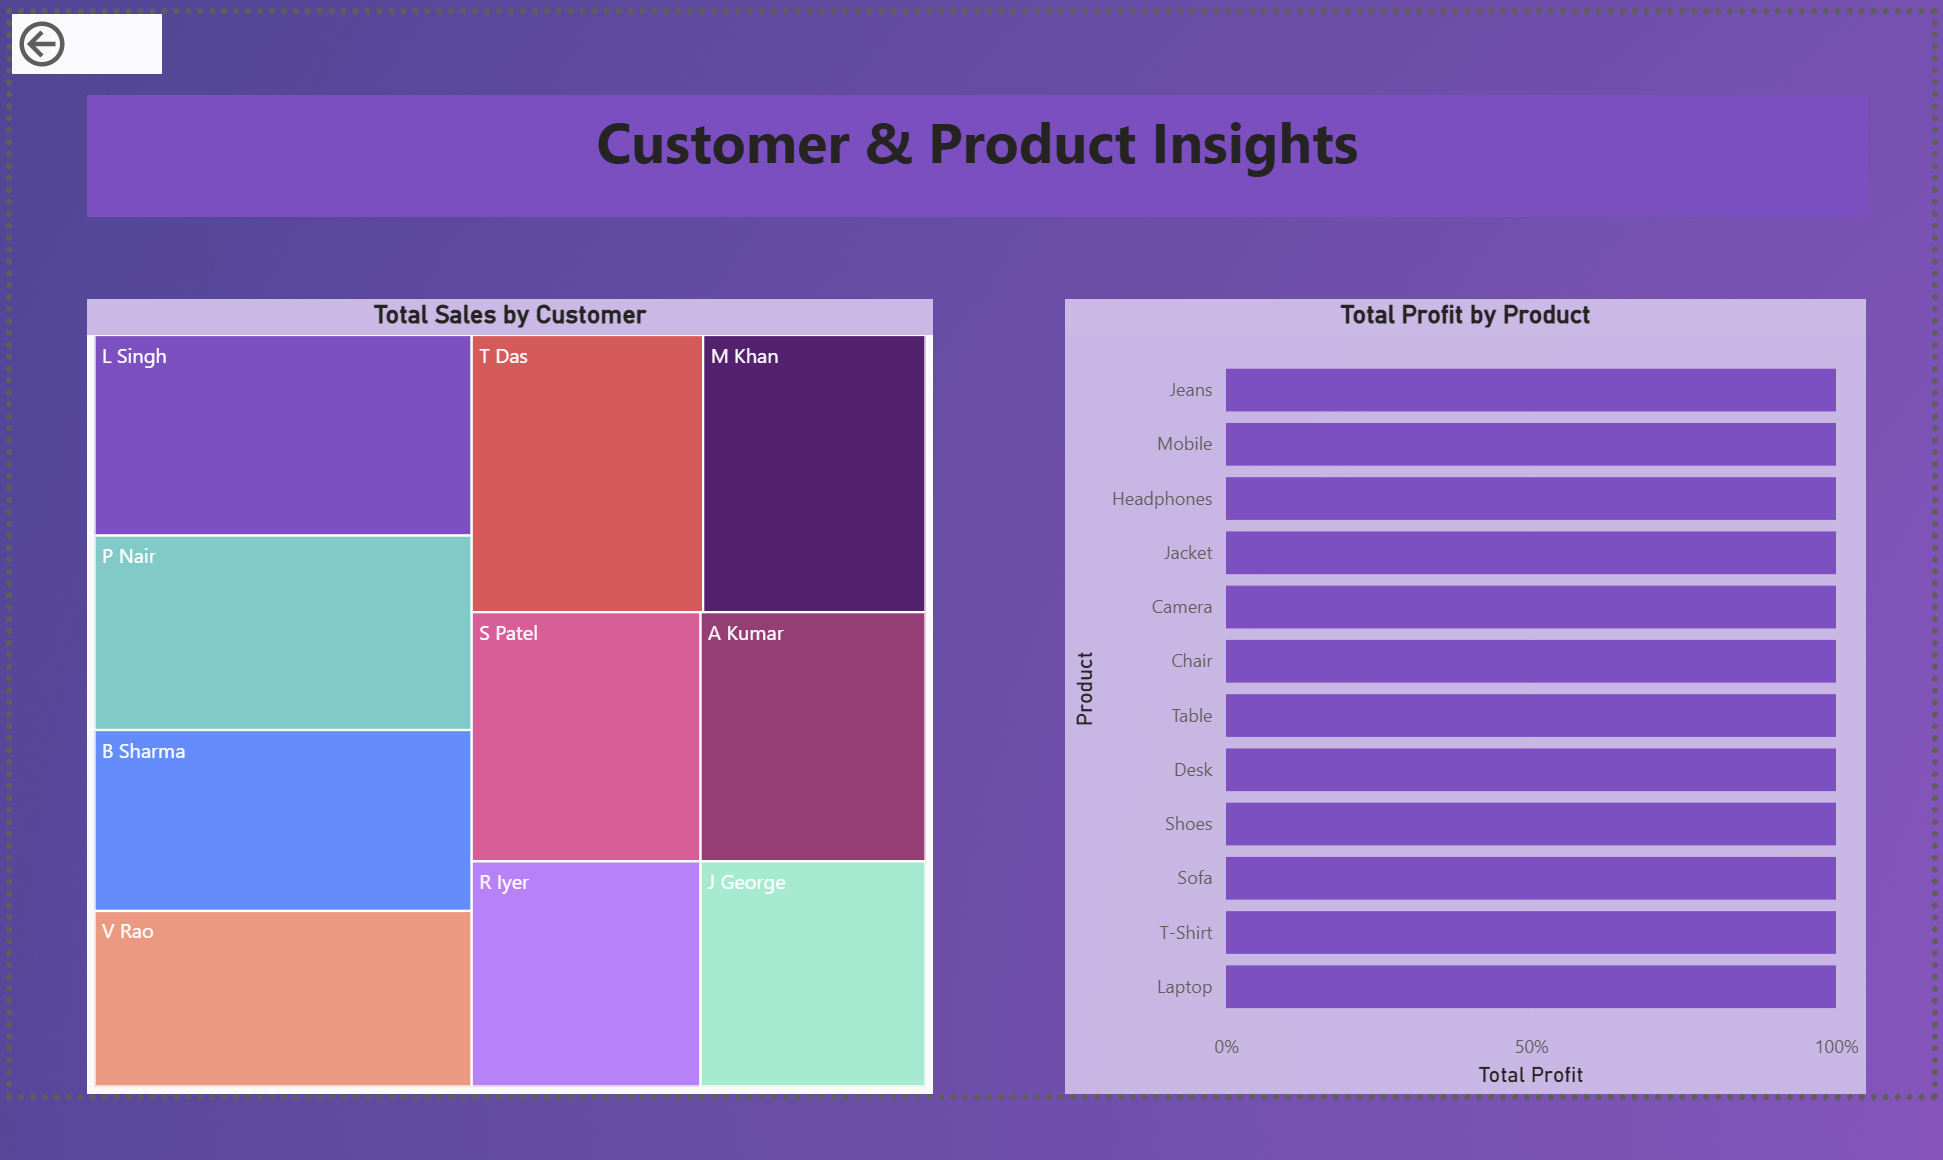

The page's visual inventory and layout, read from the dashboard file:
{"tool":"powerbi","page":{"name":"Product Insights ","canvas":[1280,720],"ordinal":1},"visuals":[{"type":"treemap","fields":{"Group":["Sales.Customer"],"Values":["Sales.Total Sales"]},"box":[50,190,564,530],"z":0},{"type":"hundredPercentStackedBarChart","fields":{"Category":["Sales.Product"],"Y":["Sales.Total Profit"]},"box":[702,190,534,530],"z":1000},{"type":"actionButton","box":[0,0,100,40],"z":2000},{"type":"textbox","box":[49.2,53,1187.2,81.4],"z":3000}]}

Visuals, with their boxes in screenshot pixels (x1, y1, x2, y2):
treemap - Sales.Customer x Sales.Total Sales: bbox(80, 295, 924, 1088)
hundredPercentStackedBarChart - Sales.Product x Sales.Total Profit: bbox(1056, 295, 1855, 1088)
actionButton: bbox(5, 10, 155, 70)
textbox: bbox(79, 89, 1856, 211)
